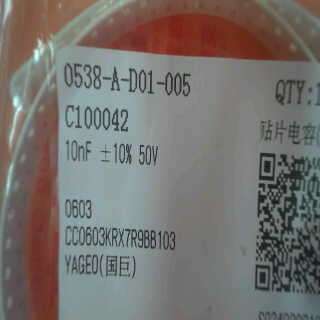10nF: (62, 135, 96, 162)
